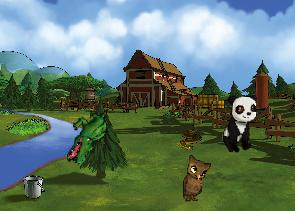crocodile: (65, 103, 110, 168)
owl: (183, 155, 211, 202)
panda: (221, 92, 259, 155)
